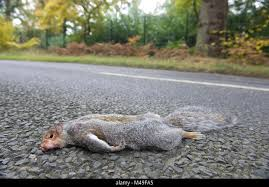squirrel: (39, 106, 236, 154)
